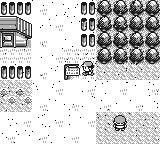leer: (64, 64, 80, 79)
main: (81, 61, 94, 76)
no-caminable: (96, 0, 160, 64), (1, 16, 32, 50), (81, 0, 95, 47), (1, 1, 31, 15), (1, 66, 31, 79)
npc: (113, 115, 127, 131)
puerta: (2, 33, 14, 47)
